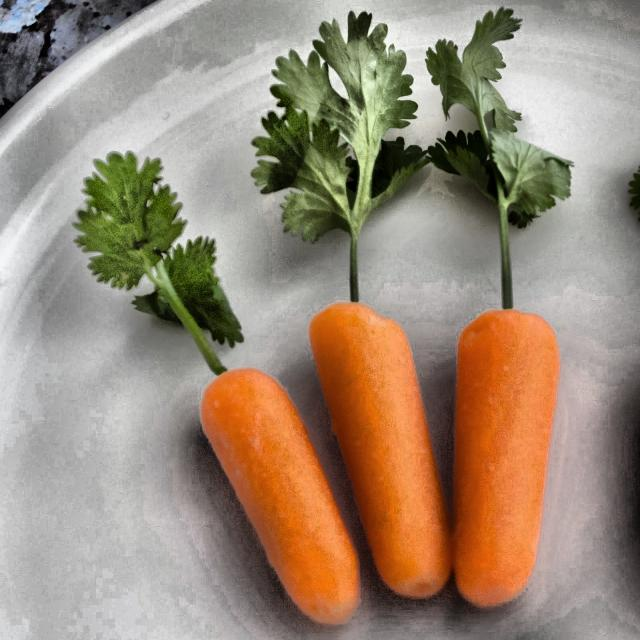carrot: (37, 22, 596, 635)
